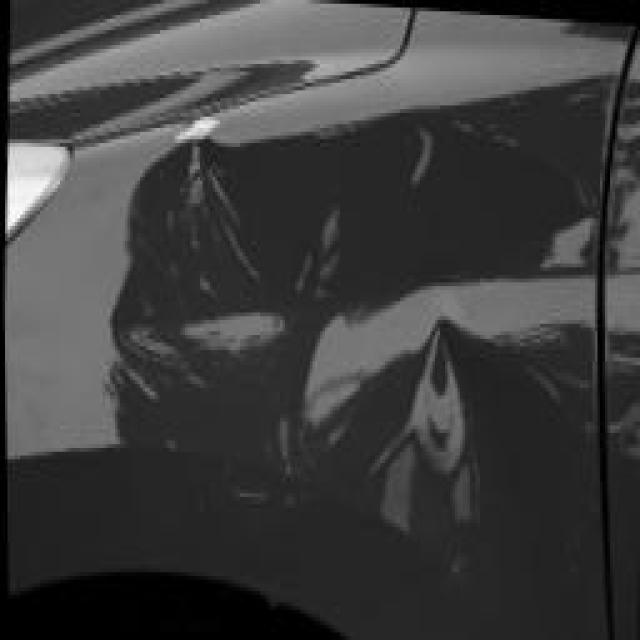Fender: (30, 15, 627, 640)
